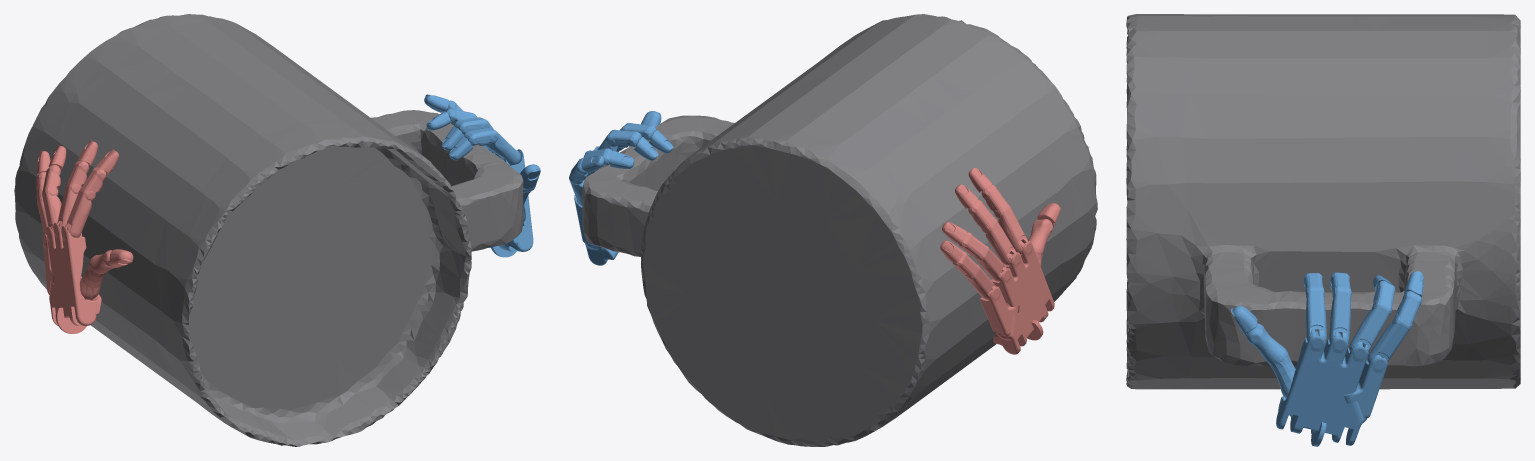
Rendered from drinking_utensil.glb.
3 views of the same model, side by side, from view 1: azimuth 30°, elevation 25°; view 2: azimuth 150°, elevation 25°; view 3: azimuth 270°, elevation 25° (orthographic). The views are drawn at different scales.
Visible parts, largest first — view 1: object_mesh, left_shadow_hand, right_shadow_hand; view 2: object_mesh, left_shadow_hand, right_shadow_hand; view 3: object_mesh, right_shadow_hand.
Boxes of the visible parts, left/top/right/bottom form: object_mesh: left=14, top=14, right=523, bottom=446; left_shadow_hand: left=36, top=140, right=133, bottom=333; right_shadow_hand: left=424, top=94, right=540, bottom=257; object_mesh: left=582, top=14, right=1097, bottom=446; left_shadow_hand: left=940, top=168, right=1060, bottom=354; right_shadow_hand: left=569, top=111, right=673, bottom=265; object_mesh: left=1126, top=14, right=1520, bottom=389; right_shadow_hand: left=1230, top=271, right=1423, bottom=446.
Bounding box in the file's own units: 0.584 × 0.3702 × 0.3874.
